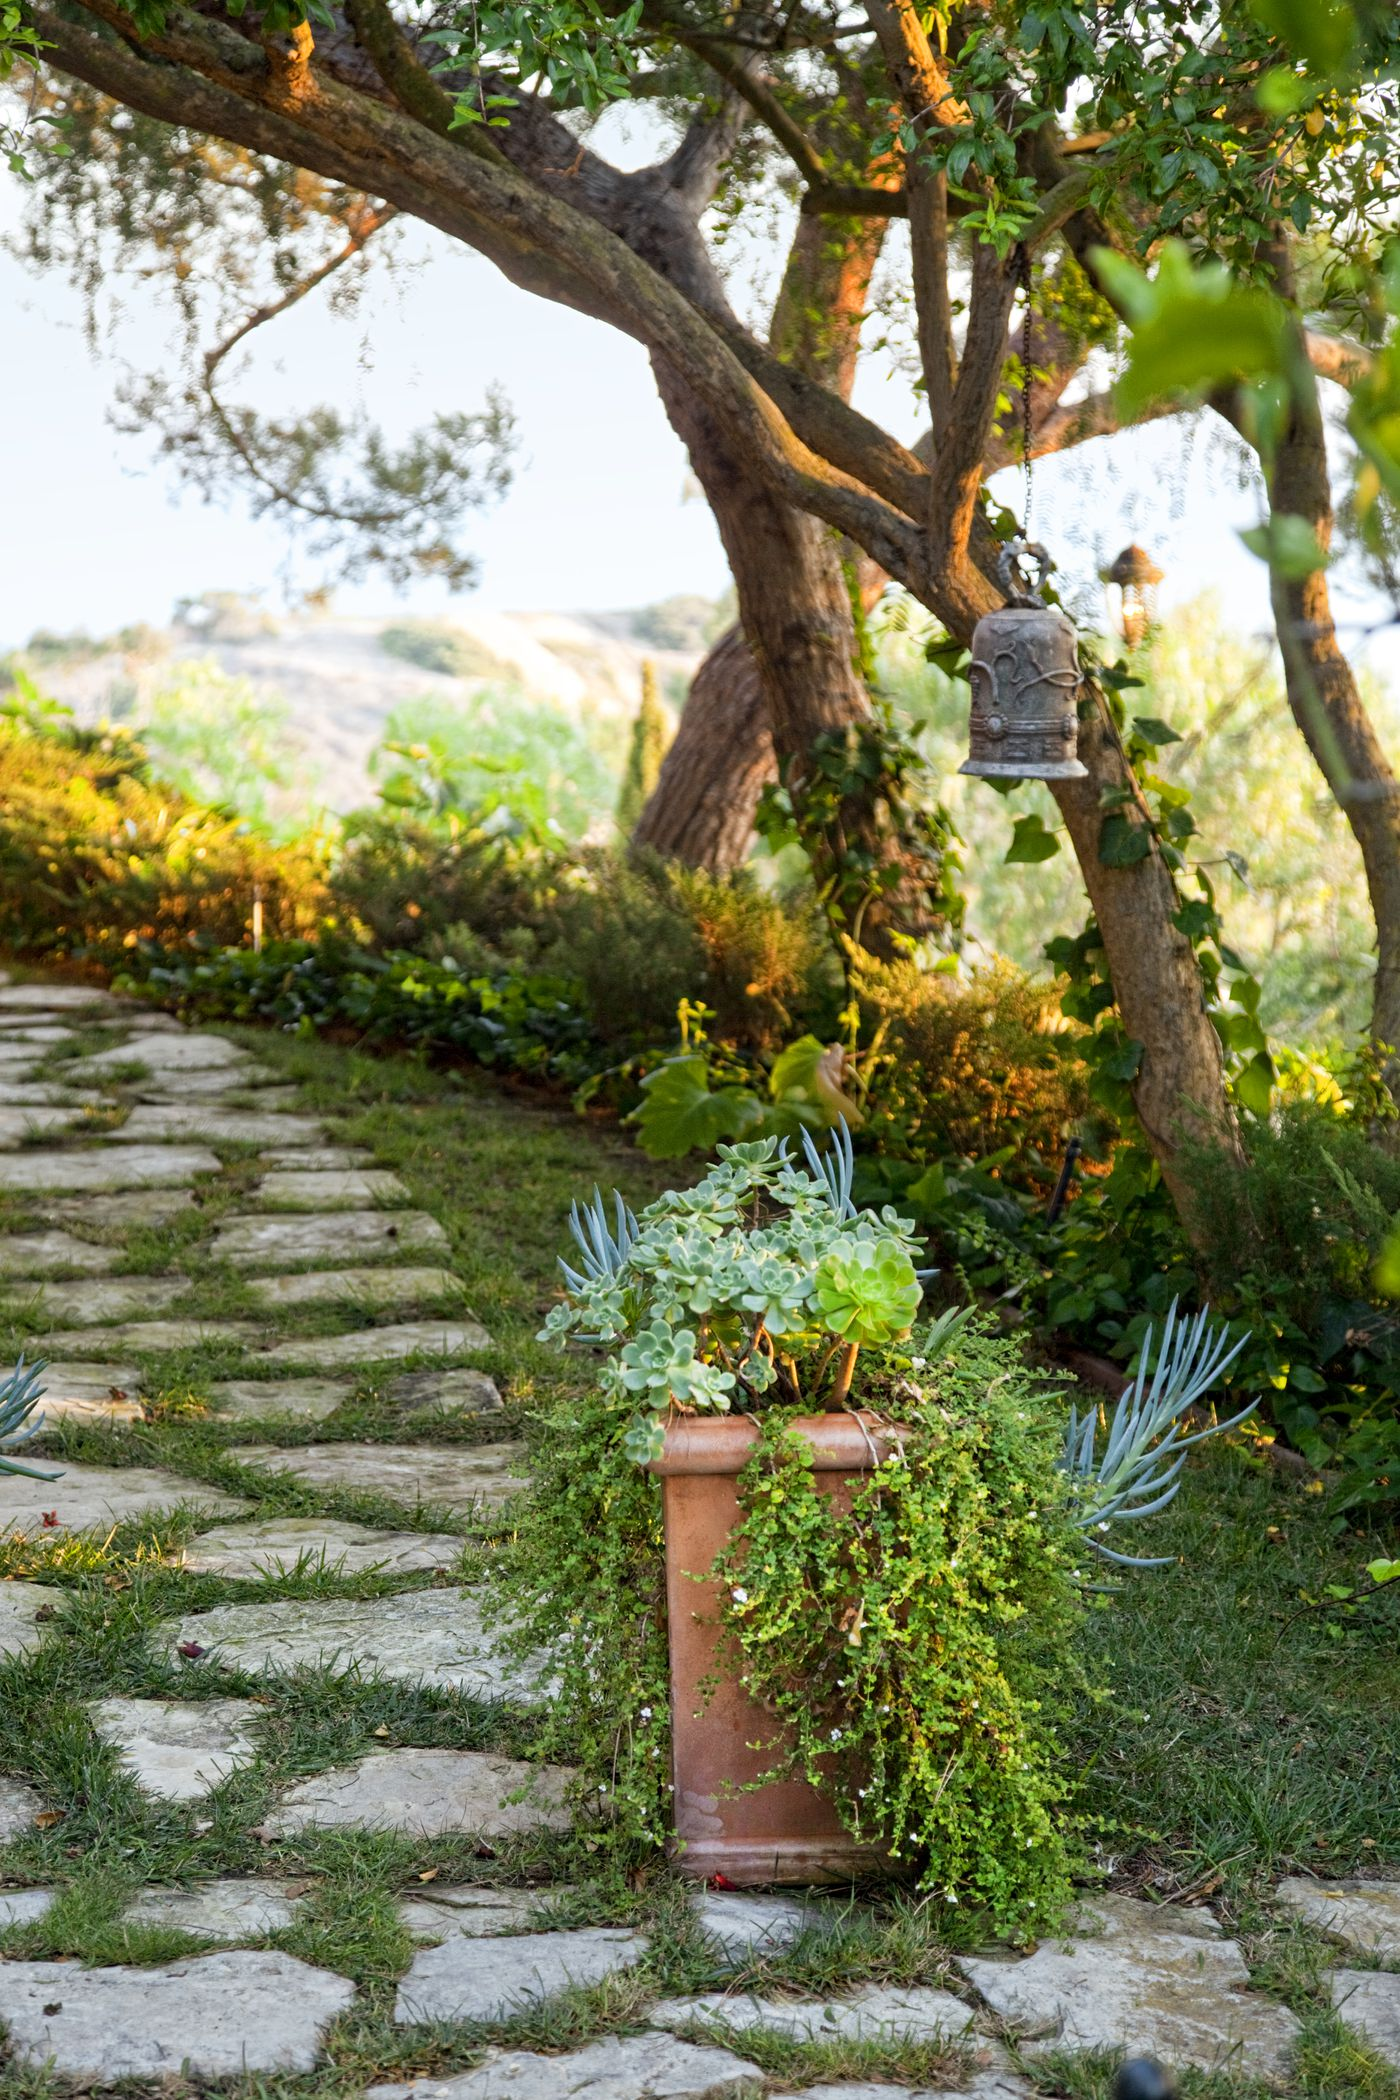tree: (705, 483, 945, 948), (1055, 761, 1245, 1203), (634, 603, 777, 866)
